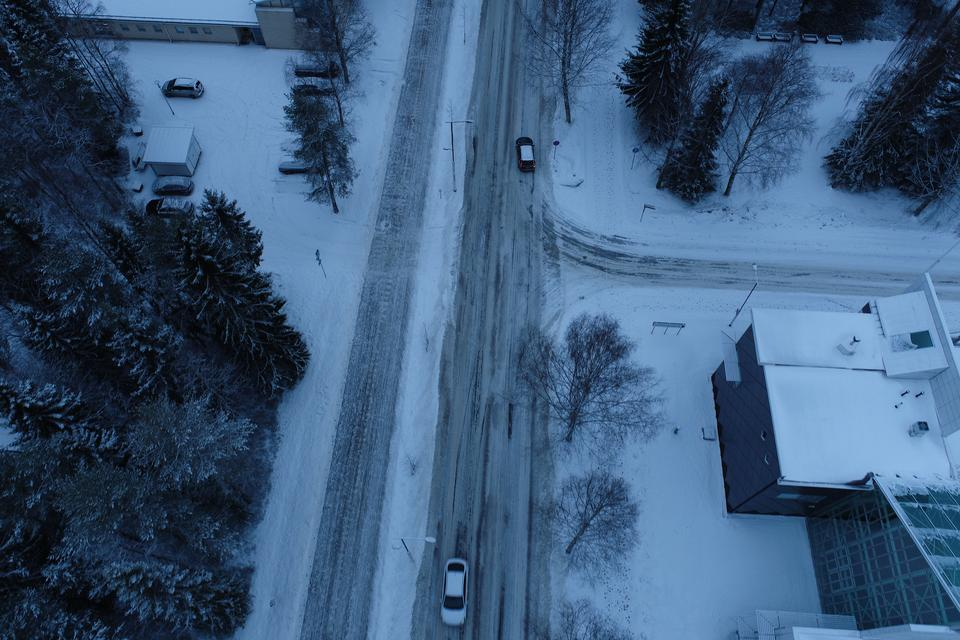intersection: (348, 199, 678, 324)
